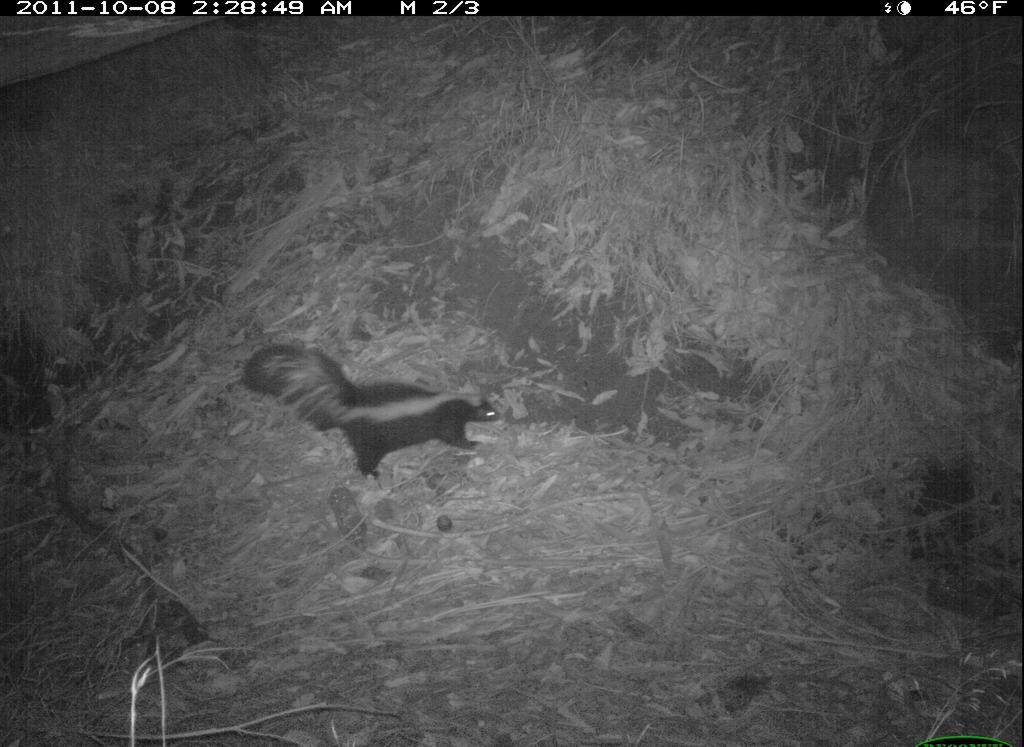skunk: (236, 336, 509, 486)
